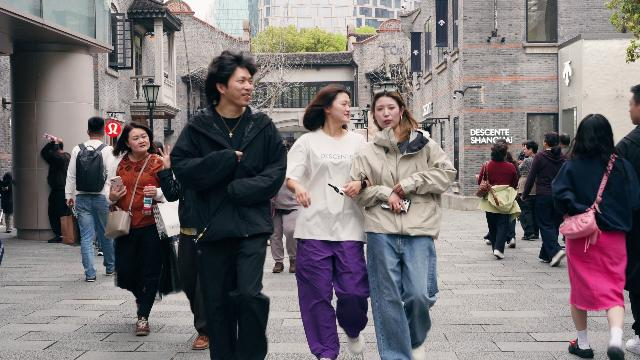person: (169, 51, 288, 360), (349, 88, 457, 360), (284, 85, 371, 360), (551, 114, 640, 360), (104, 121, 184, 335), (64, 116, 119, 282), (617, 84, 640, 354), (520, 131, 566, 266), (477, 142, 519, 259), (40, 137, 71, 243), (516, 140, 540, 240), (504, 150, 520, 248), (0, 172, 13, 233)
